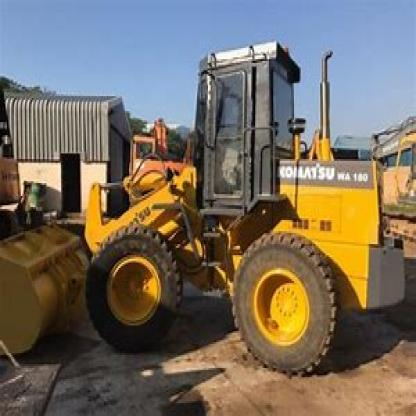bull_dozer/loader/grader: (0, 32, 413, 398)
